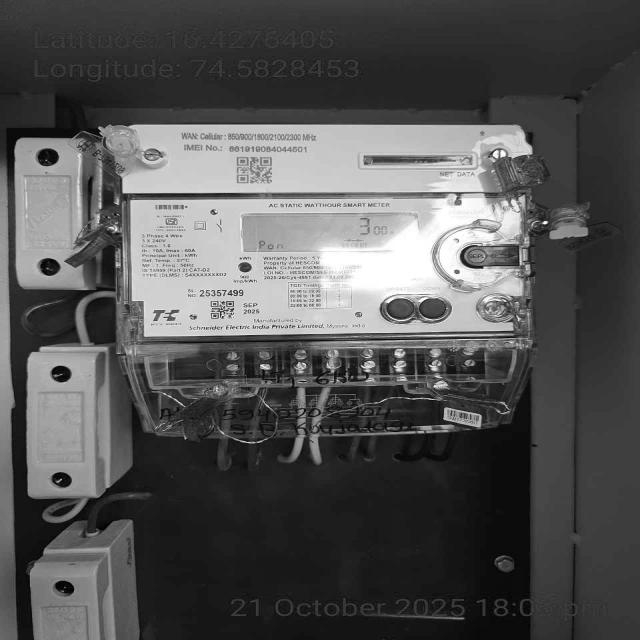meter: (122, 120, 529, 335)
